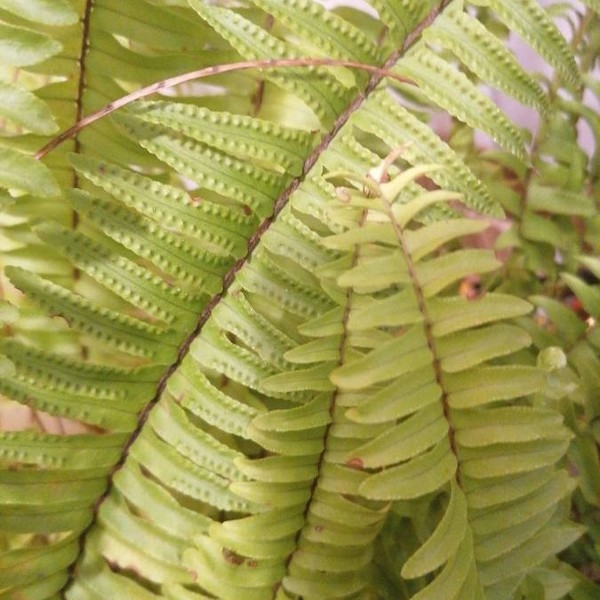obstacle: (34, 29, 555, 570)
